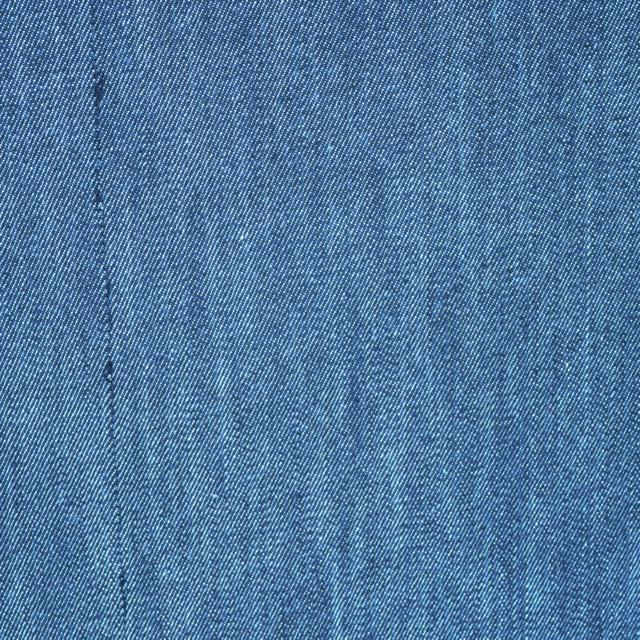Line: (87, 0, 129, 640)
